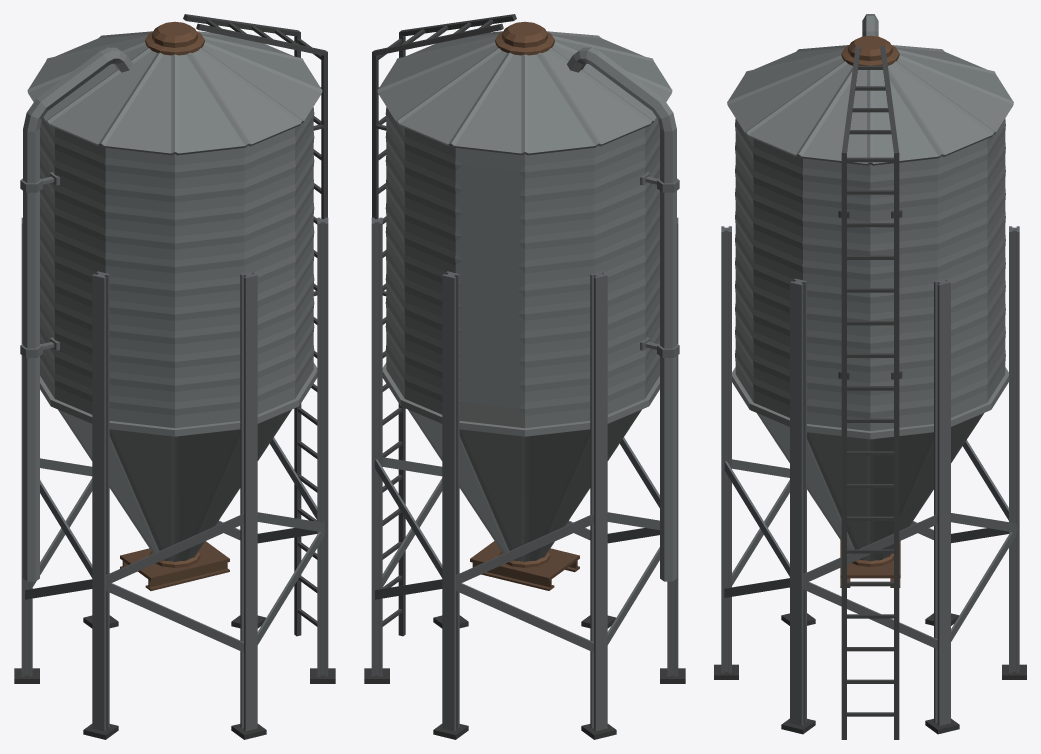
File: SM_Props_Farm_Silo_Hopper.fbx
The picture shows the model from 3 angles, left to right: view 1: azimuth 30°, elevation 25°; view 2: azimuth 150°, elevation 25°; view 3: azimuth 270°, elevation 25°; orthographic projection. The views are drawn at different scales.
Parts seen in each view (by area): view 1: SM_Props_Farm_Silo_Hopper; view 2: SM_Props_Farm_Silo_Hopper; view 3: SM_Props_Farm_Silo_Hopper.
Part boxes in pixels (box(x1,y1,x2,y2)): SM_Props_Farm_Silo_Hopper: box(14, 14, 335, 739); SM_Props_Farm_Silo_Hopper: box(364, 14, 685, 739); SM_Props_Farm_Silo_Hopper: box(714, 14, 1026, 739).
Bounding box in the file's own units: 363 × 781 × 348.
